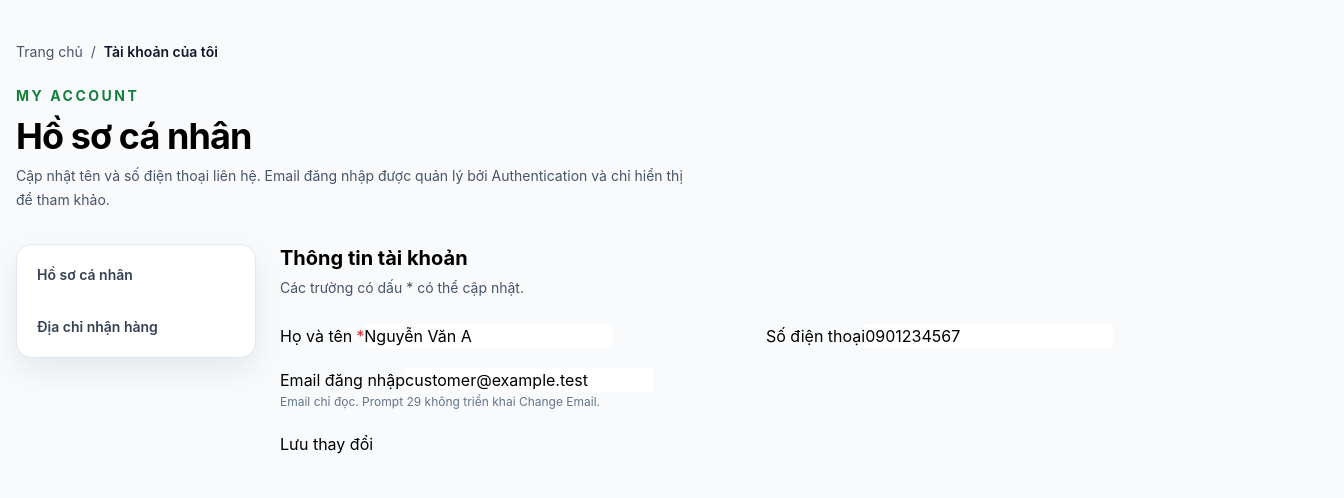
Test: AccountProfilePage › validates and updates only approved profile fields with success feedback
Clear the field labelled "Họ và tên*" at (488, 336), box [364,324,612,348]
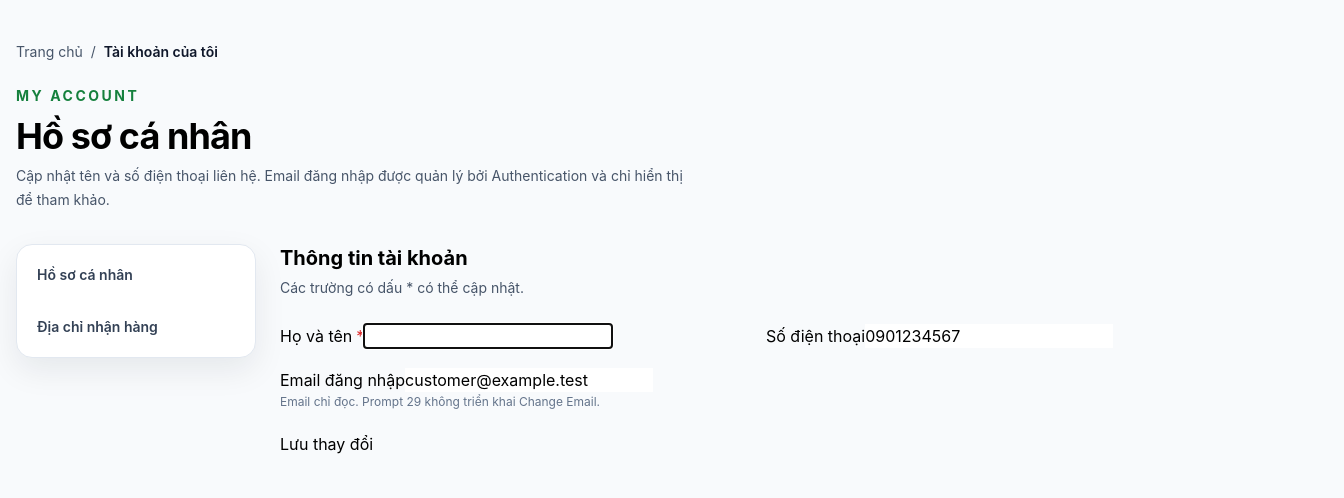
Click the button "Lưu thay đổi".
click(327, 444)  # box [280,432,373,456]
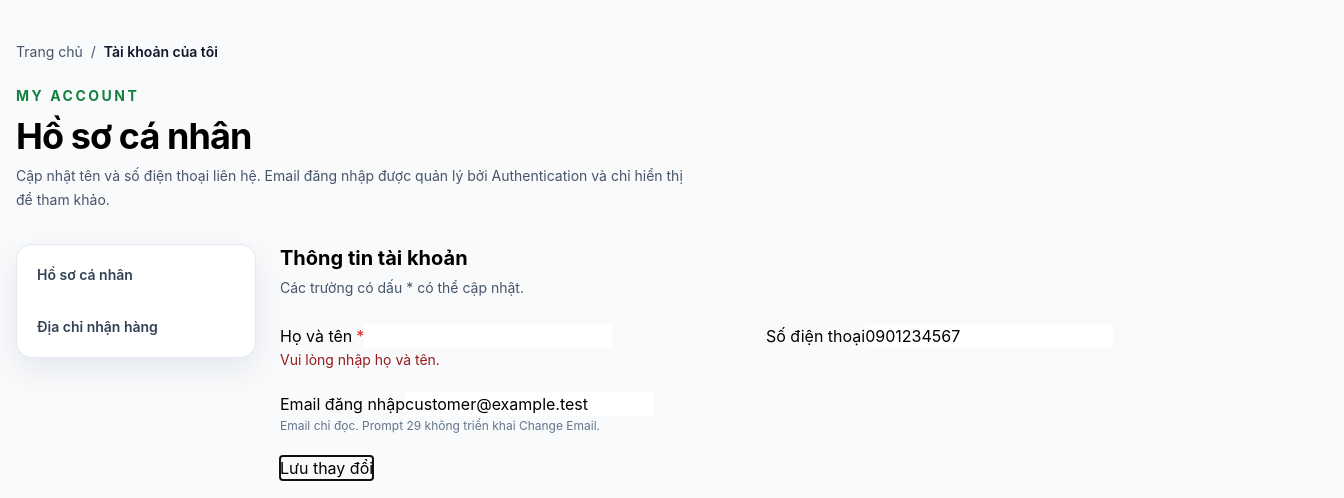
Result: the text "Vui lòng nhập họ và tên." is shown at [280,351,440,368]
Type "Nguyễn Văn B" into the field labelled "Họ và tên*".
click(488, 336); type("Nguyễn Văn B")  # box [364,324,612,348]
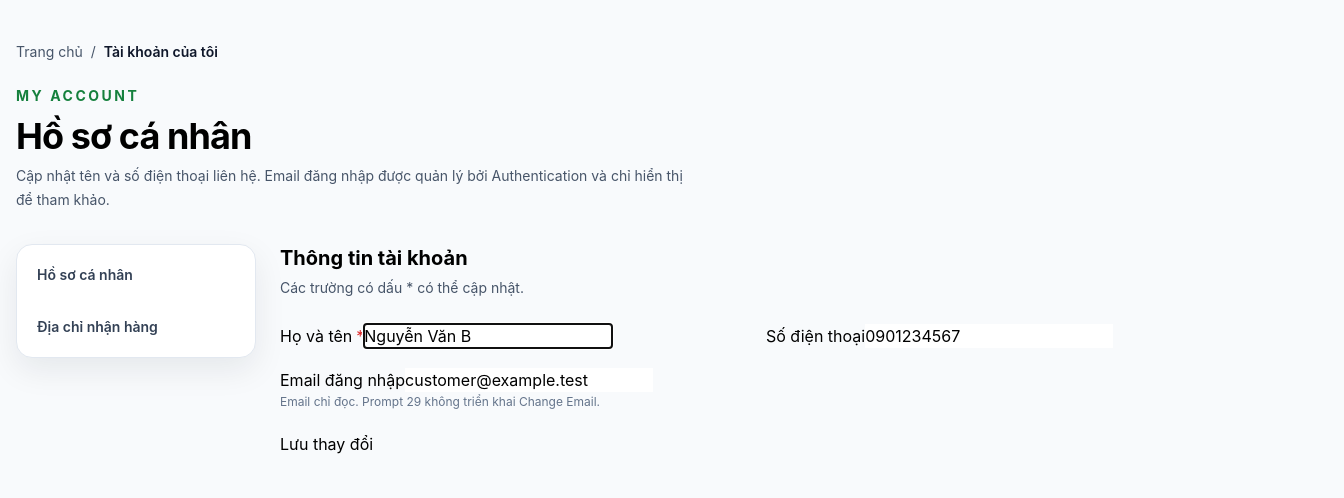
Click the button "Lưu thay đổi".
click(327, 444)  # box [280,432,373,456]
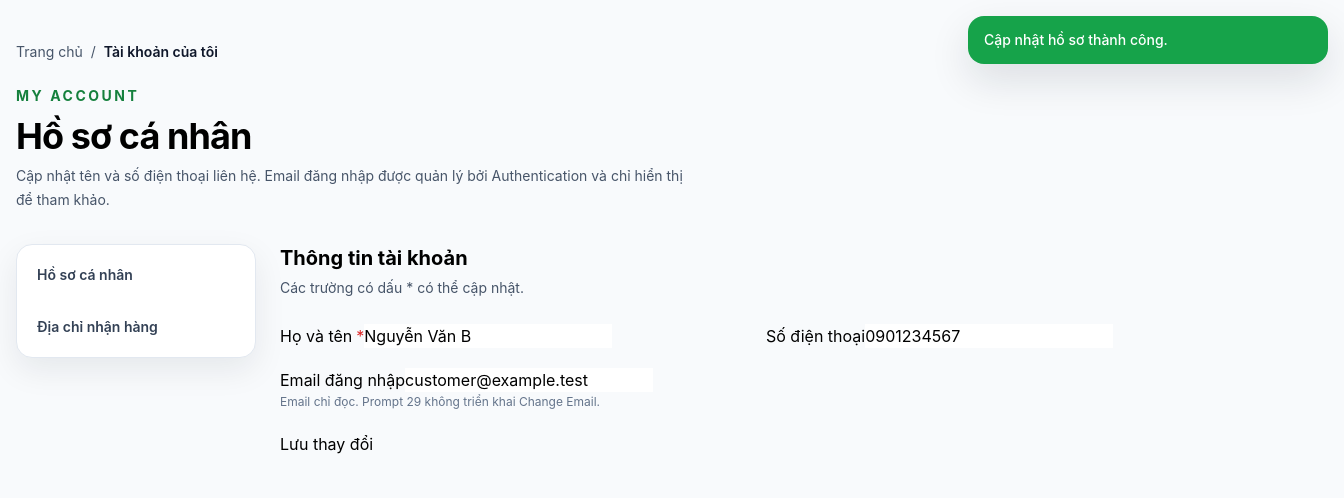
Result: the text "Cập nhật hồ sơ thành công." is shown at [968,16,1328,64]
